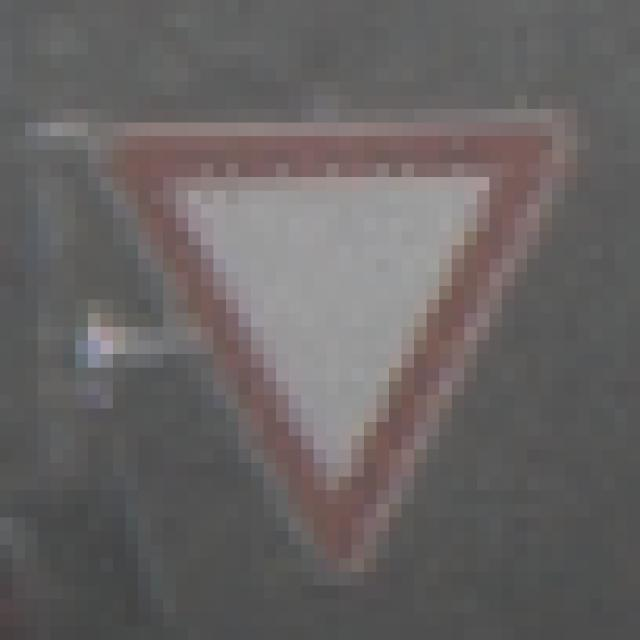Give Way: (77, 83, 579, 573)
